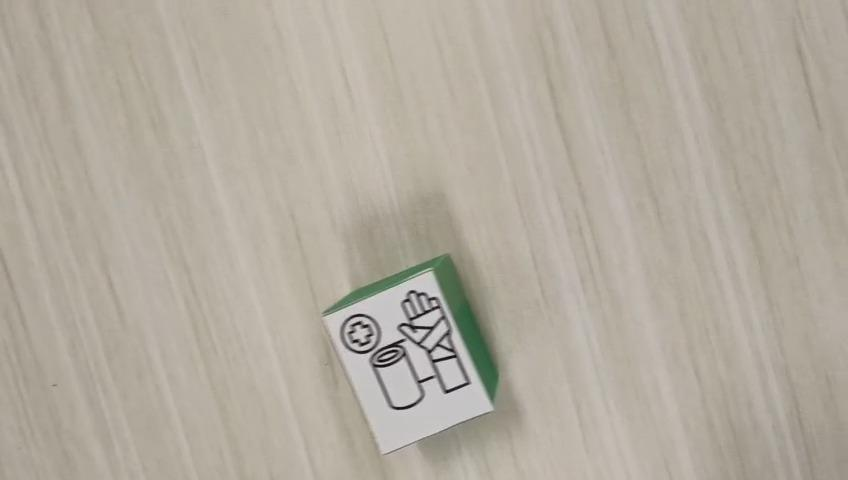Bandages: (319, 252, 499, 455)
